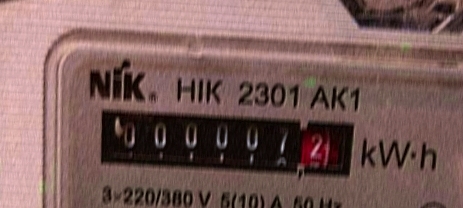0: (179, 121, 199, 150), (149, 121, 168, 150), (118, 121, 137, 149), (241, 123, 259, 152), (211, 122, 228, 150)
2: (306, 132, 324, 162)
7: (271, 126, 289, 156)
screen: (88, 97, 365, 189)
